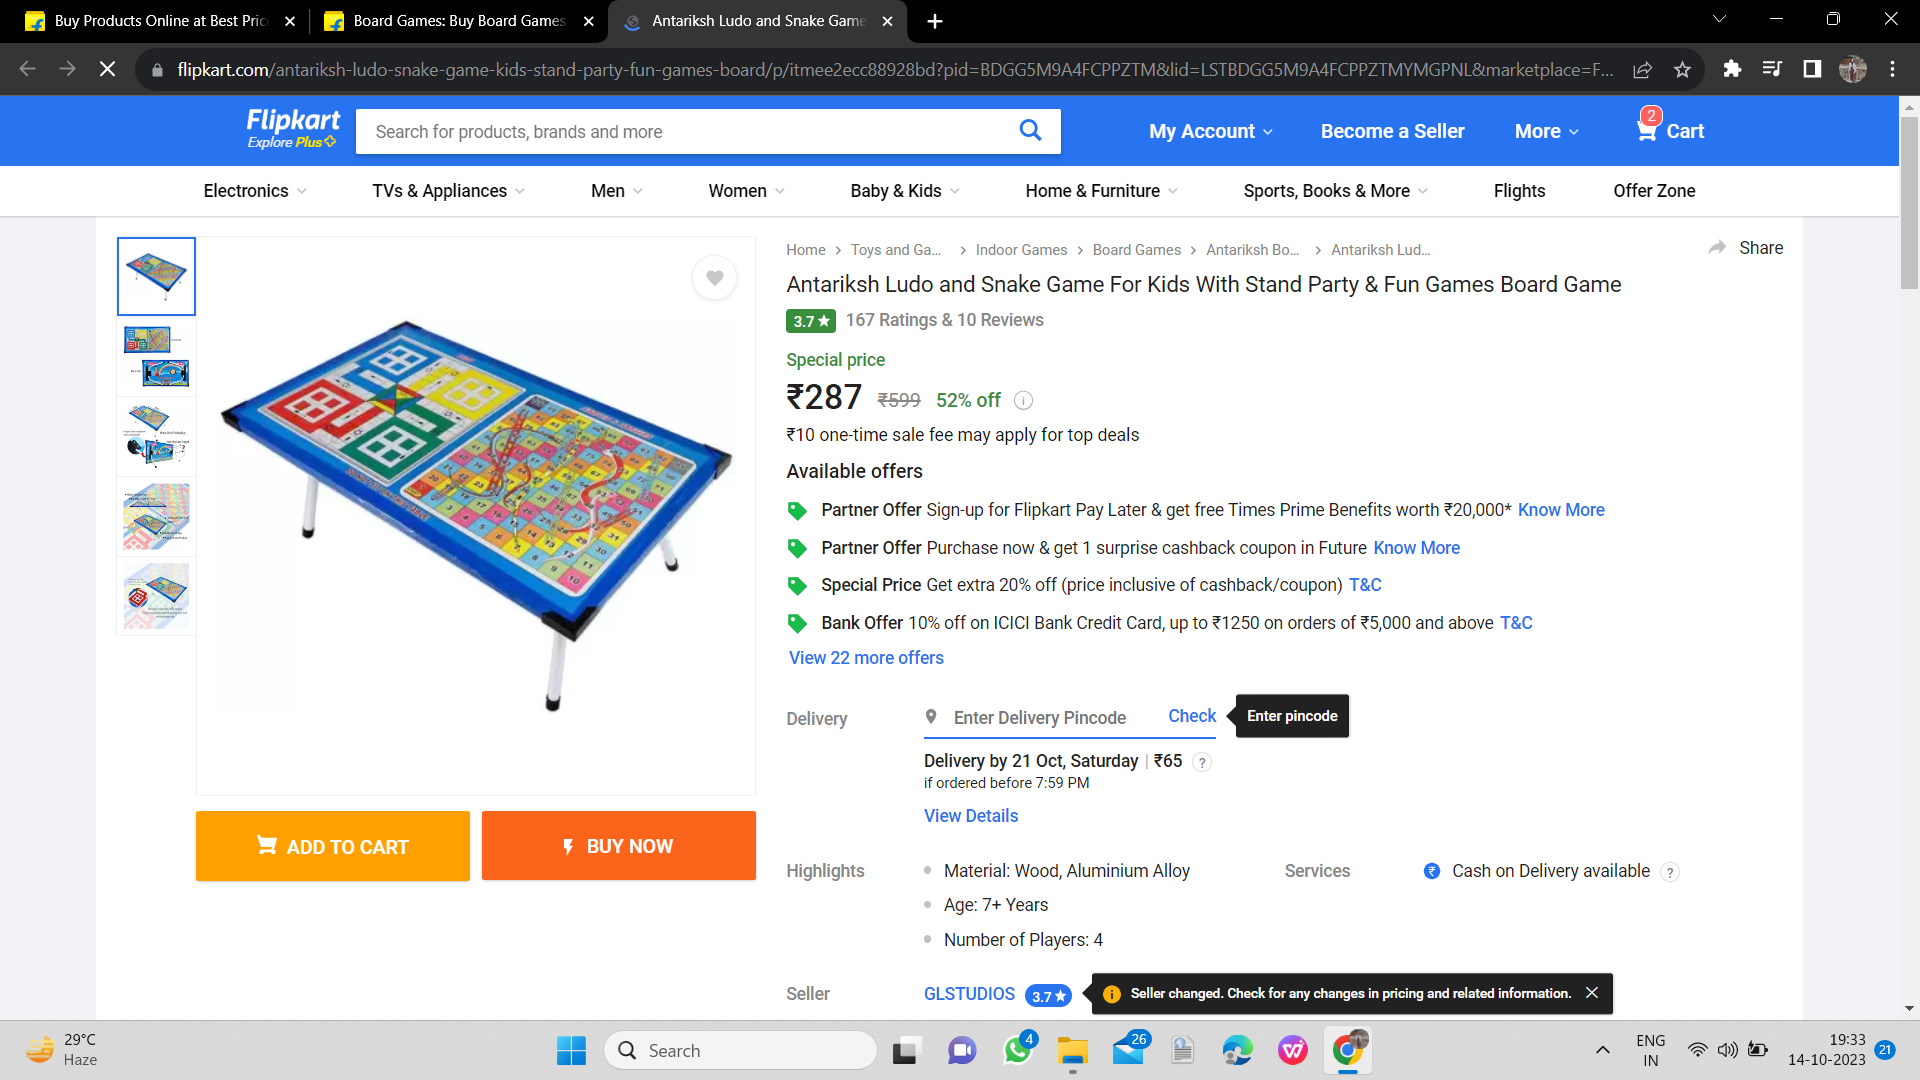Image: (241, 222, 758, 745)
Paragraph: (773, 504, 1654, 676), (160, 796, 765, 885), (1134, 96, 1713, 156), (779, 261, 1627, 301), (913, 855, 1203, 961), (914, 692, 1365, 733), (779, 345, 1017, 418), (1271, 852, 1662, 890), (775, 421, 1155, 448), (771, 306, 1055, 335), (913, 748, 1142, 775), (782, 455, 930, 487), (778, 699, 858, 738), (783, 856, 876, 890)
